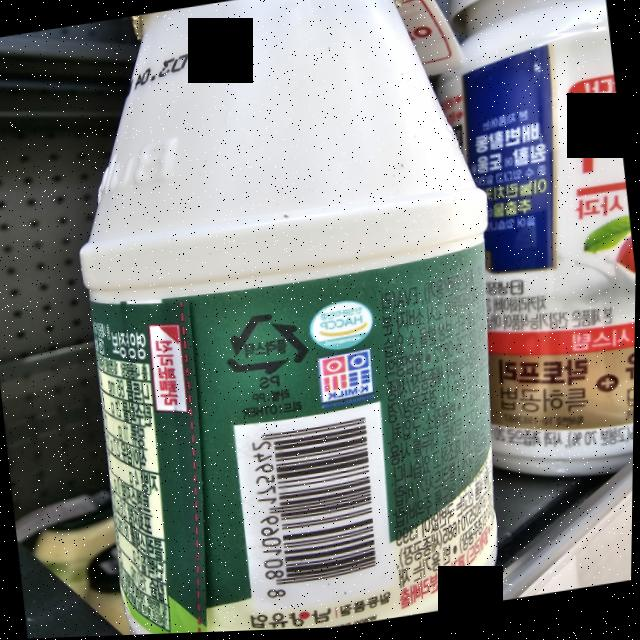Plastic: (216, 305, 313, 385)
